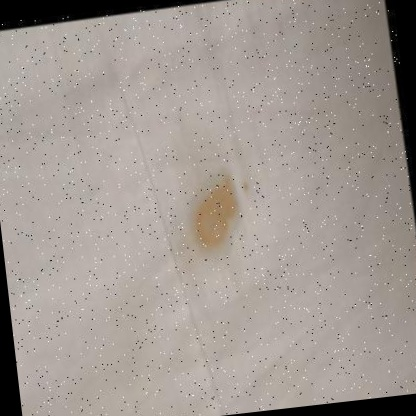kimchi: (179, 169, 251, 257)
